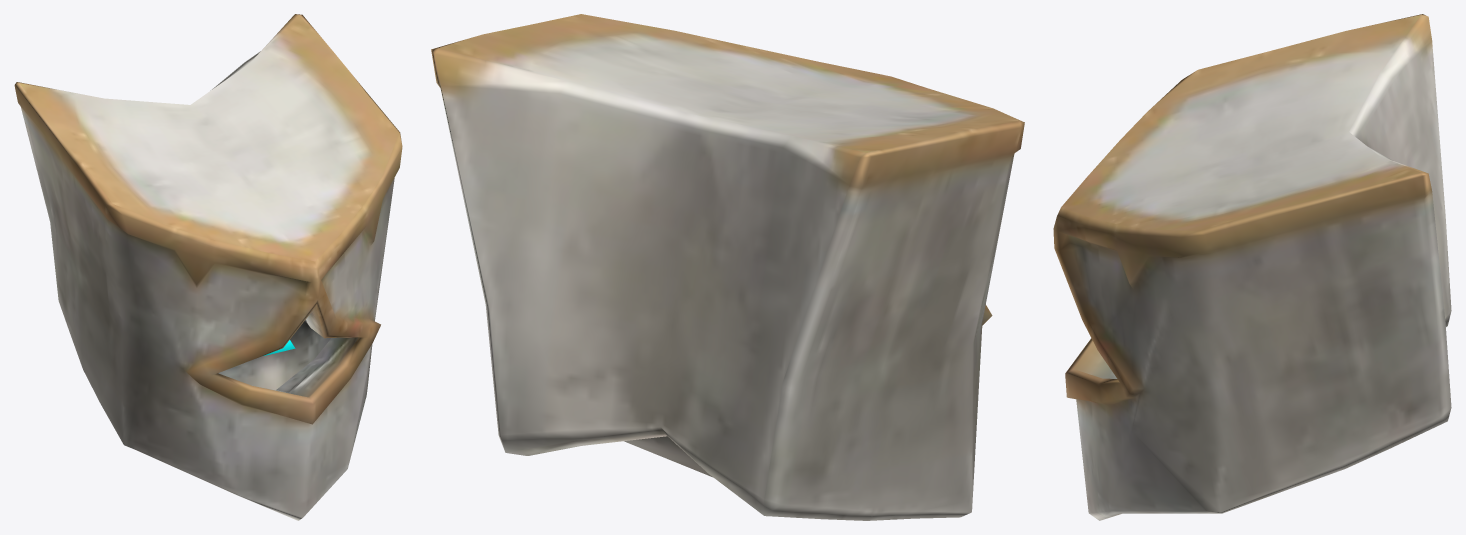
3 views of the same model, side by side, from view 1: azimuth 30°, elevation 25°; view 2: azimuth 150°, elevation 25°; view 3: azimuth 270°, elevation 25° (orthographic). The views are drawn at different scales.
Visible parts, largest first — view 1: SM_Vault_Guardian_Melee_01_Parts_SM_VaultGuardian_Melee_Head; view 2: SM_Vault_Guardian_Melee_01_Parts_SM_VaultGuardian_Melee_Head; view 3: SM_Vault_Guardian_Melee_01_Parts_SM_VaultGuardian_Melee_Head.
Boxes of the visible parts, x1=… form: SM_Vault_Guardian_Melee_01_Parts_SM_VaultGuardian_Melee_Head: x1=14, y1=14, x2=402, y2=520; SM_Vault_Guardian_Melee_01_Parts_SM_VaultGuardian_Melee_Head: x1=431, y1=14, x2=1024, y2=520; SM_Vault_Guardian_Melee_01_Parts_SM_VaultGuardian_Melee_Head: x1=1053, y1=14, x2=1451, y2=520.
Bounding box in the file's own units: 0.3839 × 0.4608 × 0.3893.
Materials: 1 (1 with a texture image).
